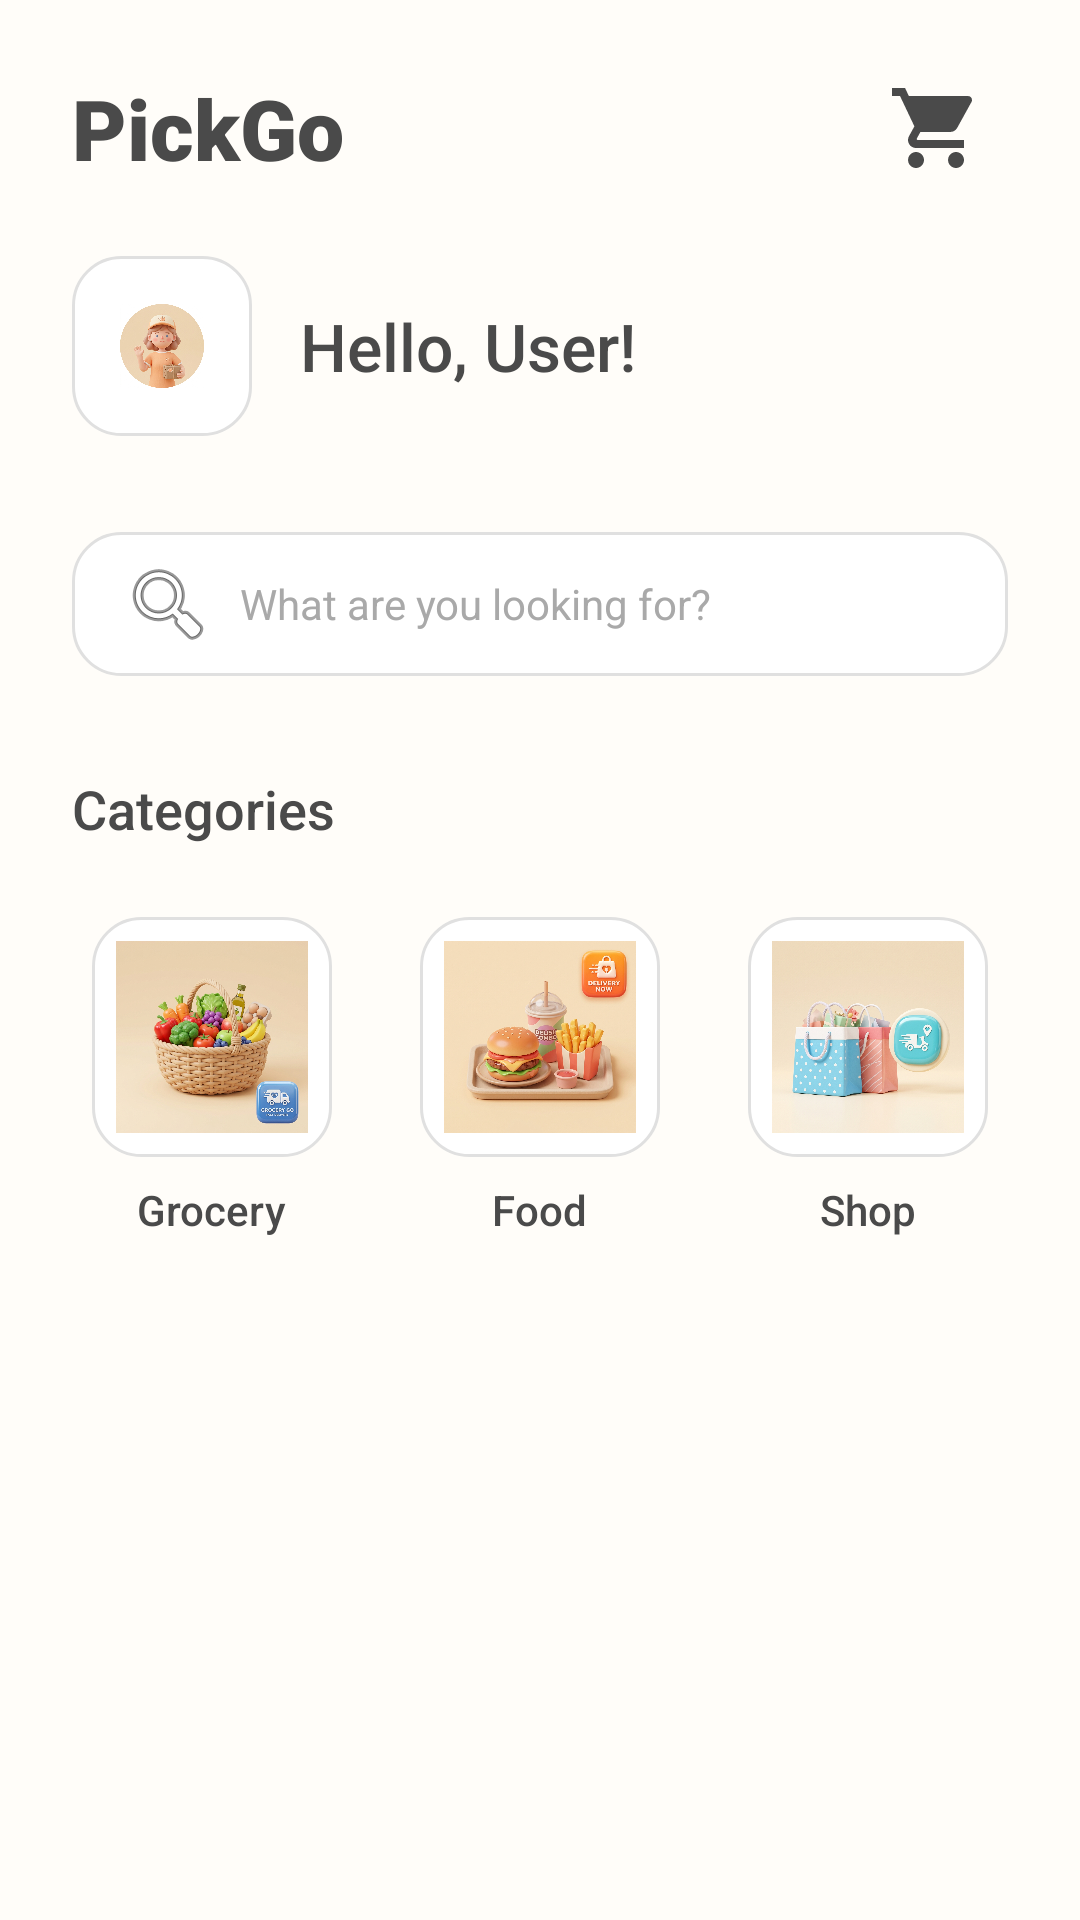

Icon bounding boxes for this 1080px×1920px phone screenshot, format (x1,y1,x2,y2):
cart: (892,88,972,168)
